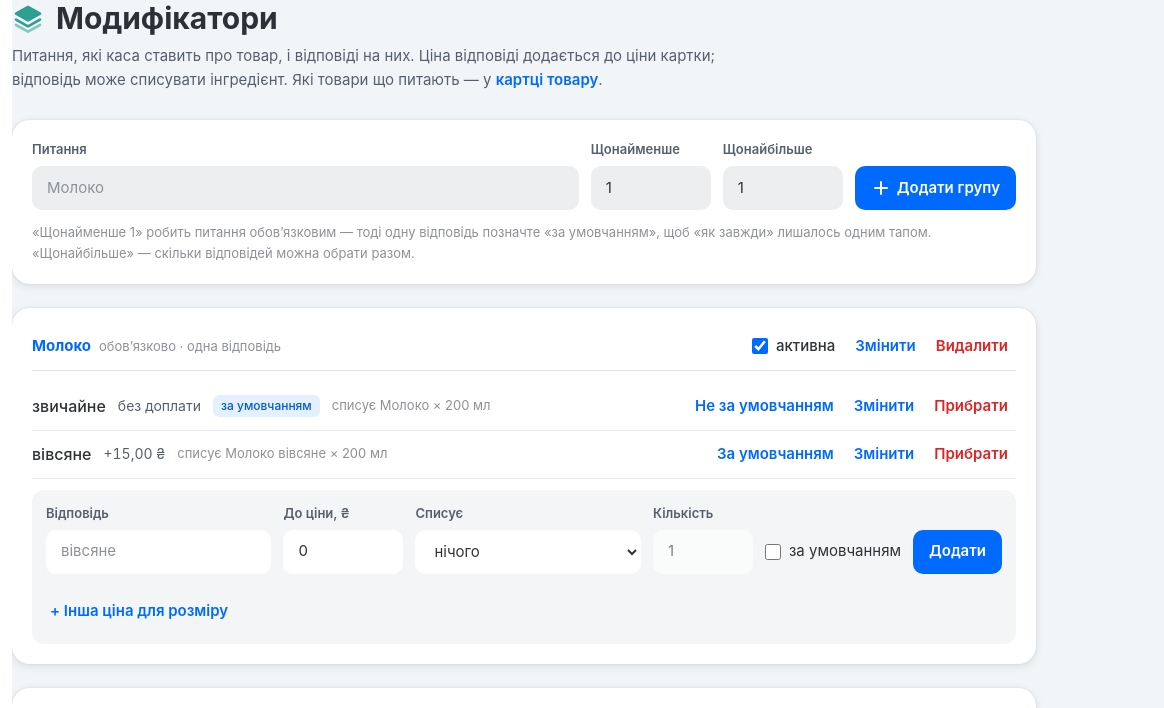
Test: ModifiersPage › creates a question with its range
Expected: the element with test id "group-card-1" is shown, [12,308,1036,664]
Type "Сироп" into the field with test id "group-form-name" at (305, 188), box [32,166,579,210]
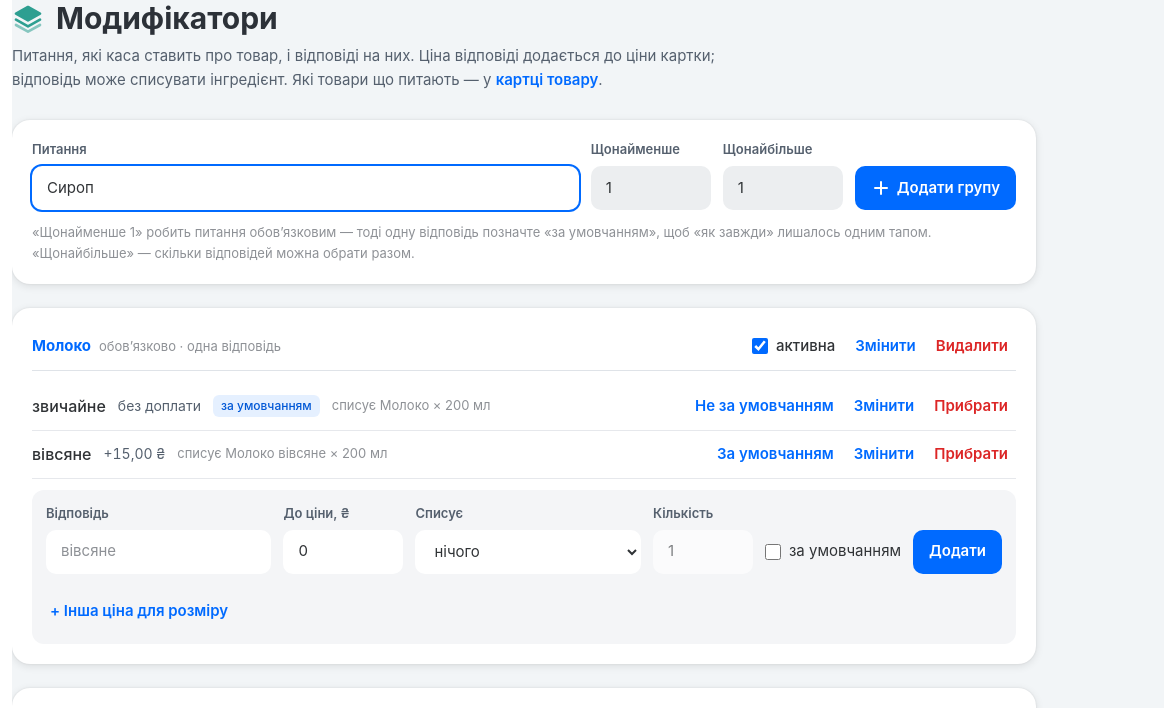
Replace the text in the number field with test id "group-form-min" with "0" at (651, 188), box [591,166,711,210]
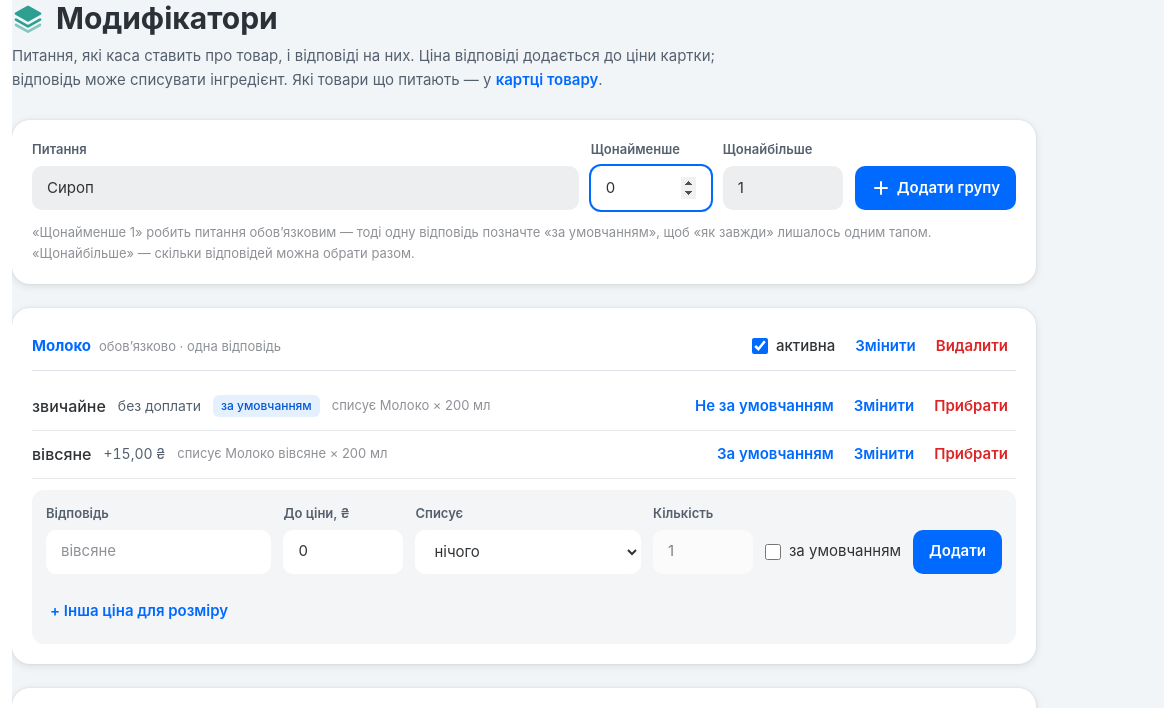
Replace the text in the number field with test id "group-form-max" with "3" at (783, 188), box [723,166,843,210]
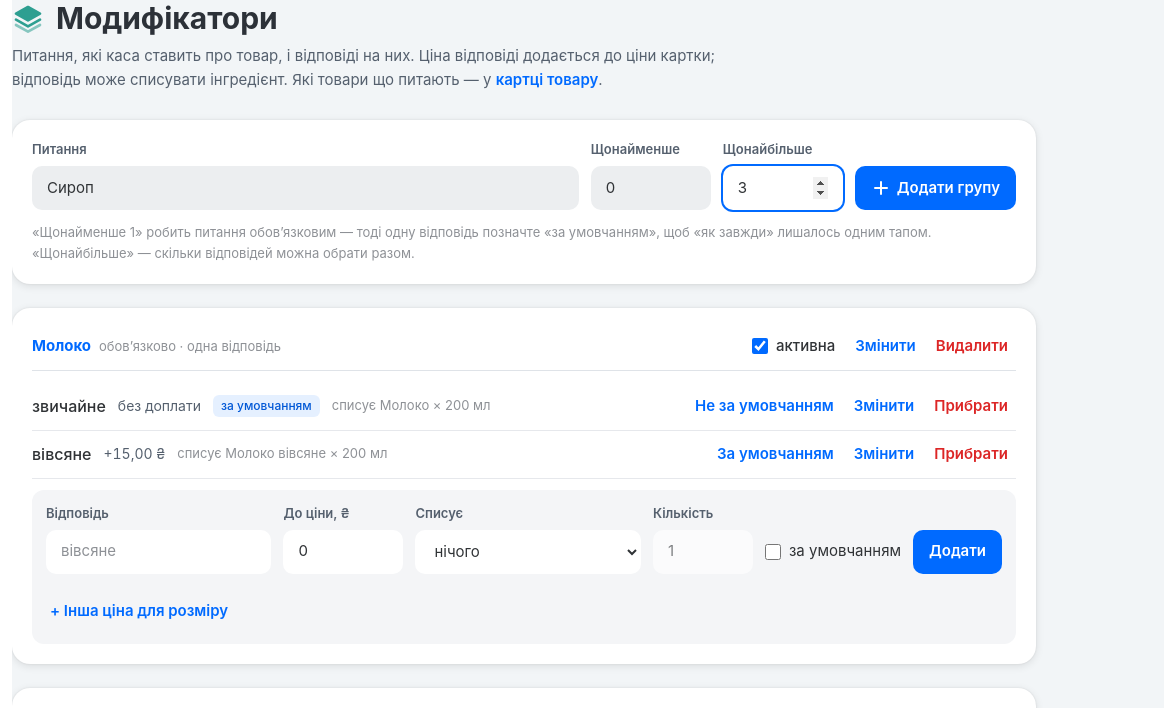
Click the button with test id "group-form-submit" at (935, 188), box [855,166,1016,210]
(page scrolled)
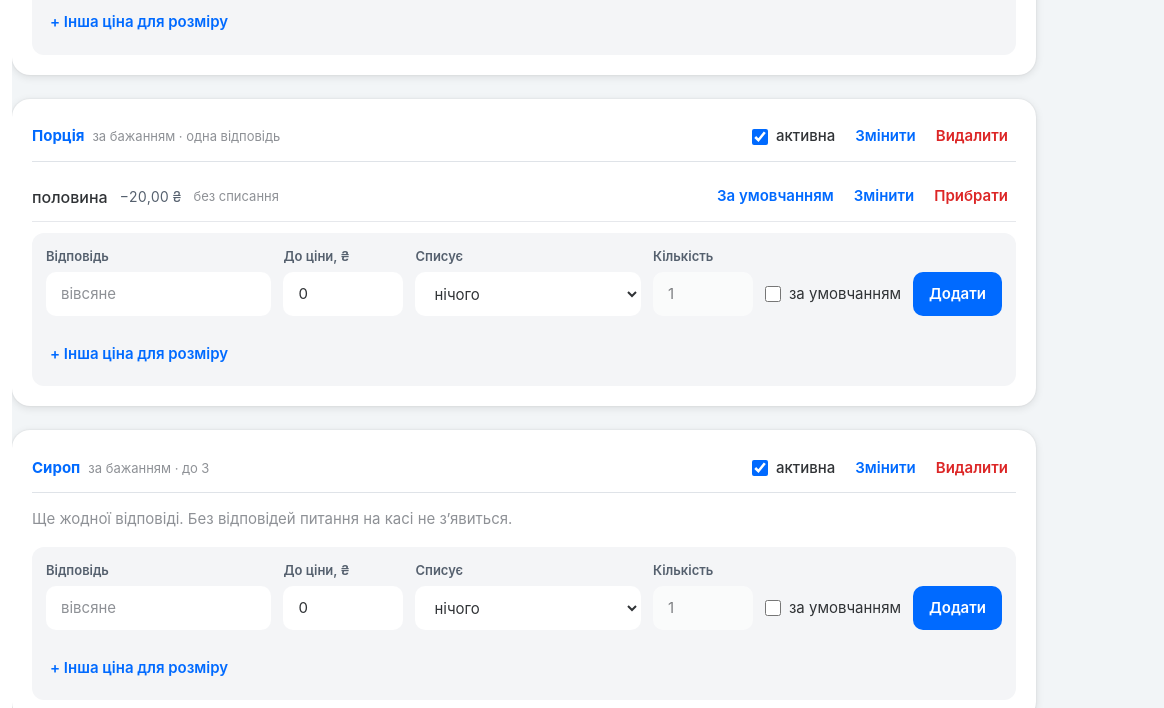
Expected: the element with test id "group-card-9" shows "за бажанням · до 3", [88,460,209,476]
